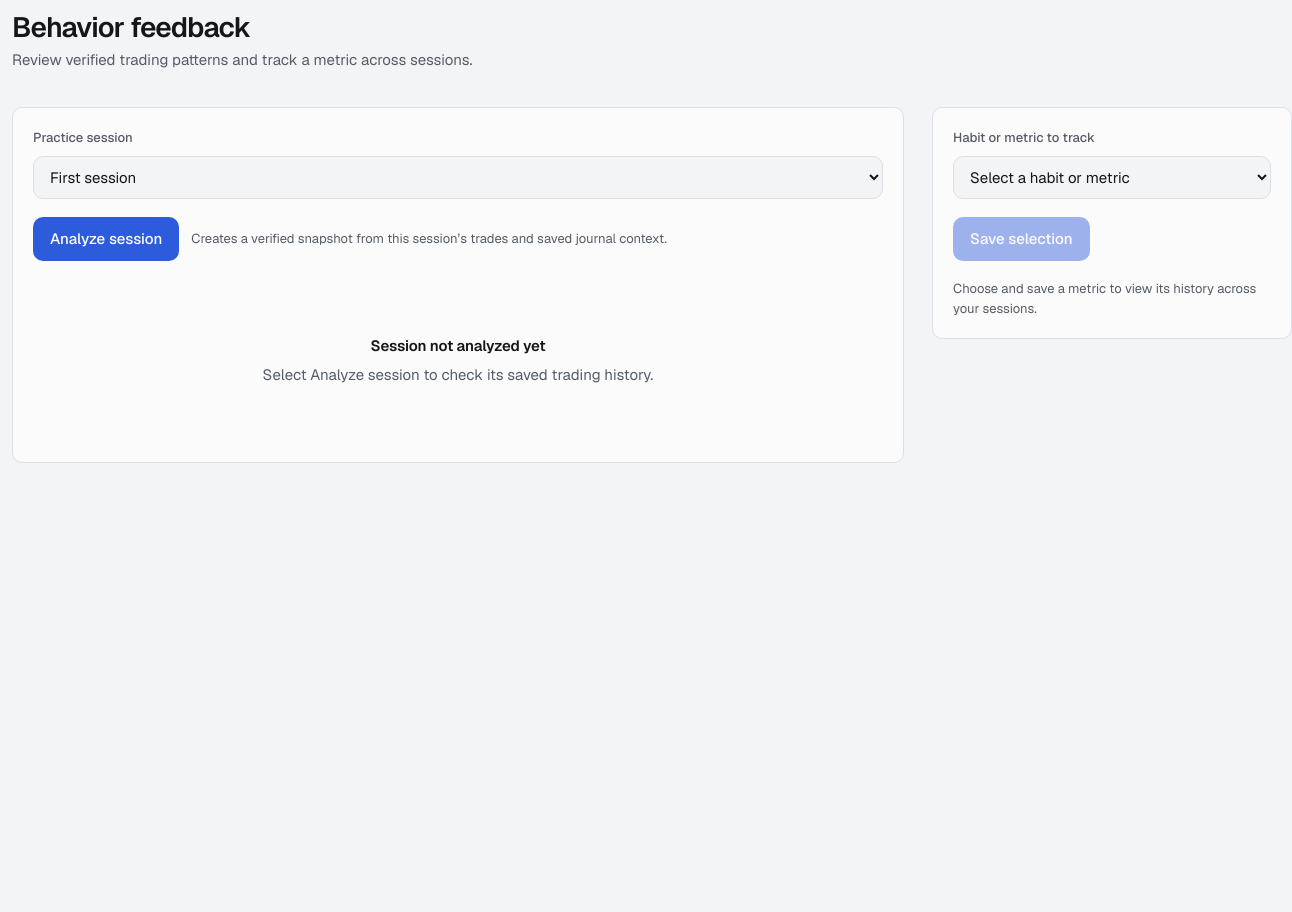
Test: feedback workflow › analyzes selected session and displays exact evidence and trade links
Expected: the heading "Session not analyzed yet" is shown, [370, 336, 546, 355]
Select "Second session" in the dropdown labelled "Practice session": (458,177) [33, 156, 883, 199]
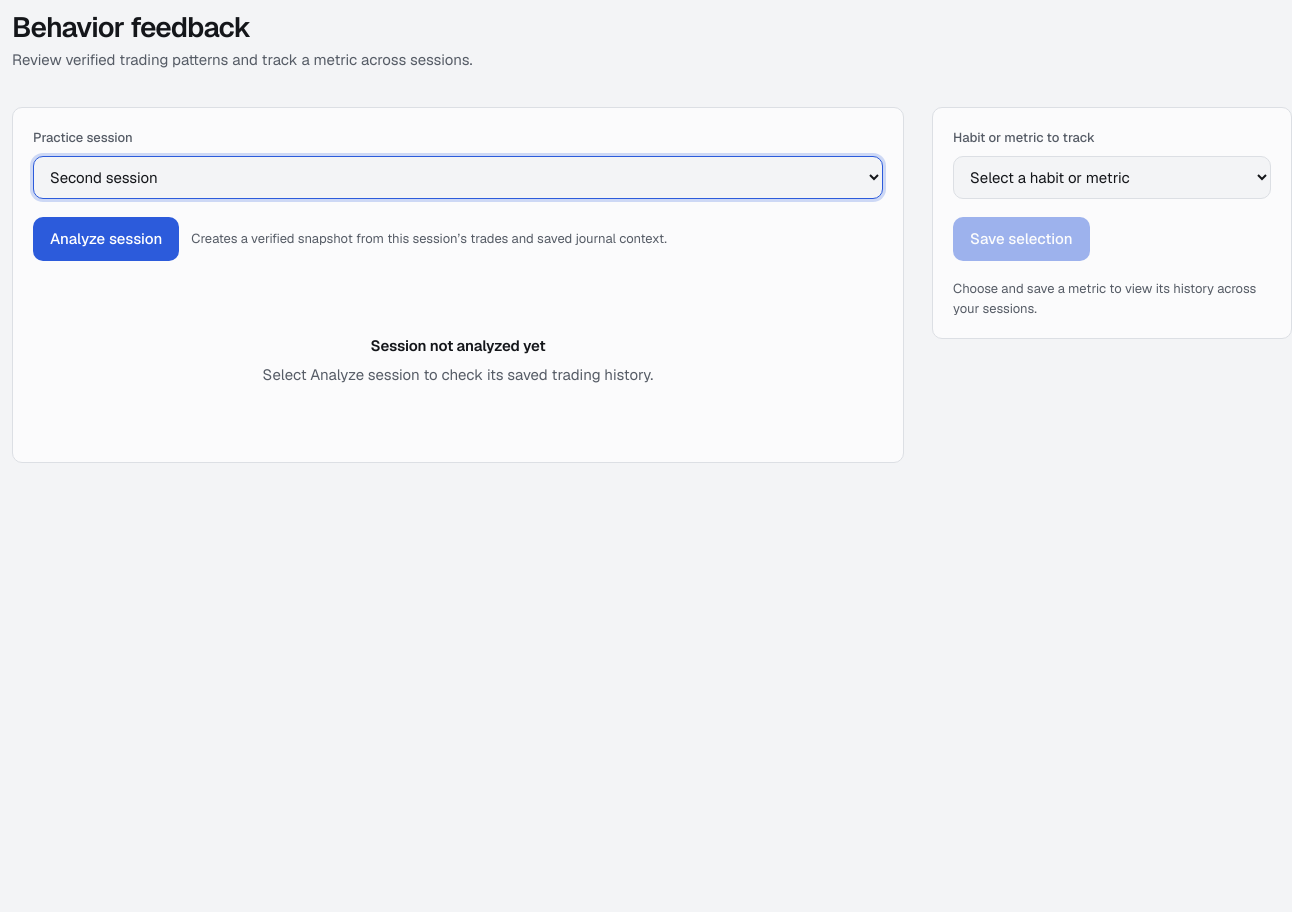
Click the button "Analyze session": (106,239) [33, 217, 179, 261]
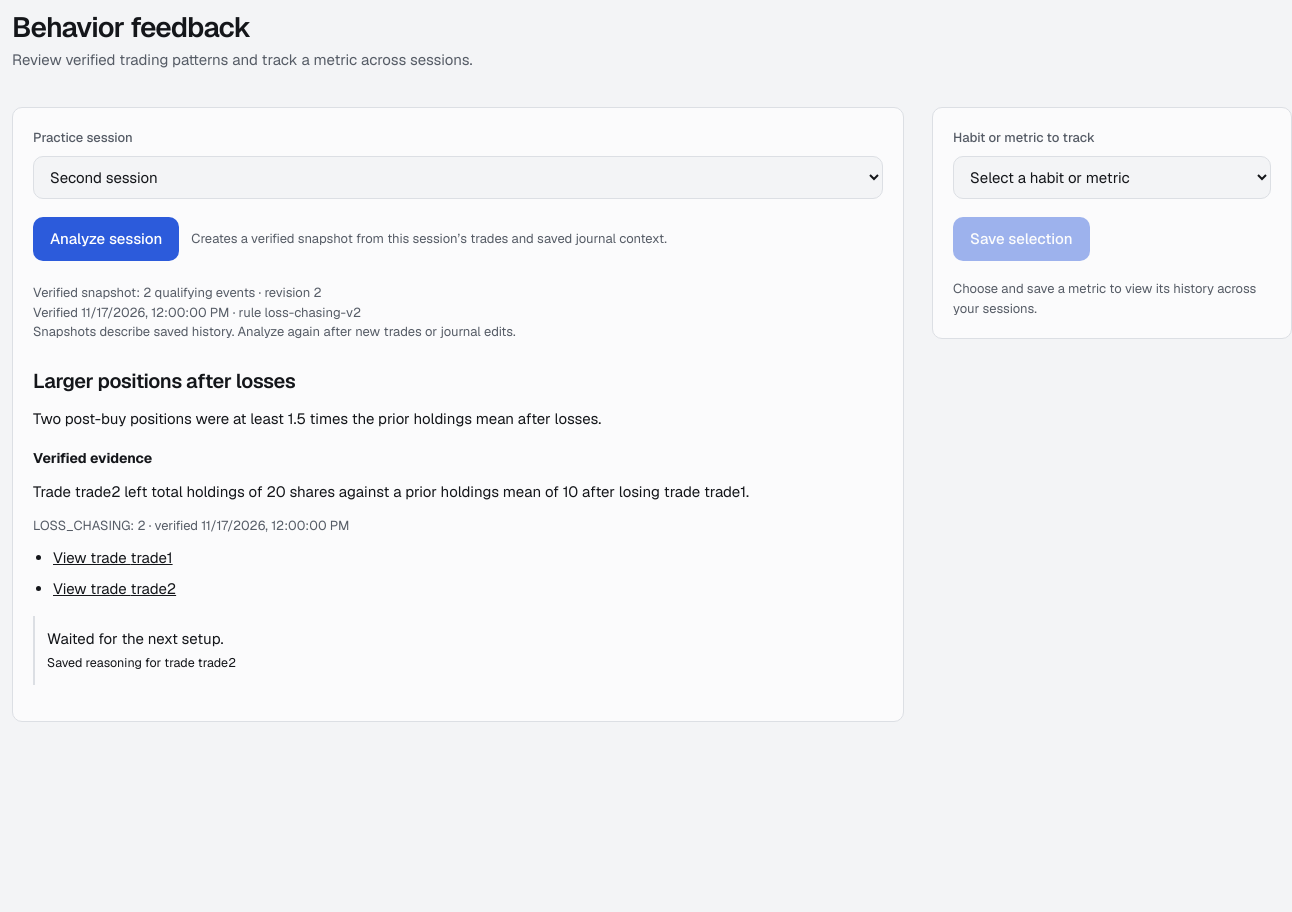
Expected: the text "Two post-buy positions were at least 1.5 times the prior holdings mean after losses." is shown, [33, 409, 601, 428]
Expected: the text "Waited for the next setup." is shown, [47, 629, 224, 648]
Expected: the heading "Larger positions after losses" is shown, [33, 368, 295, 394]
